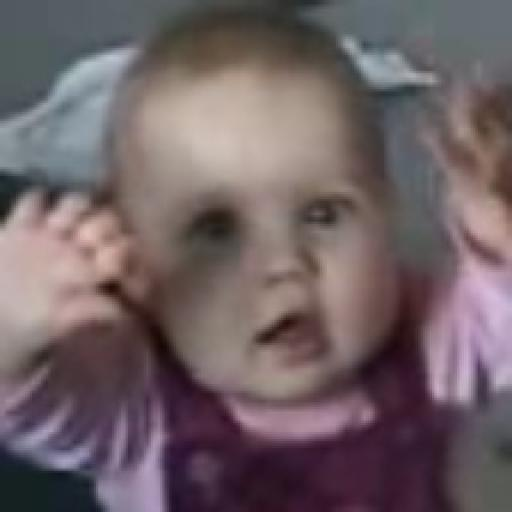Autism: (81, 18, 495, 506)
